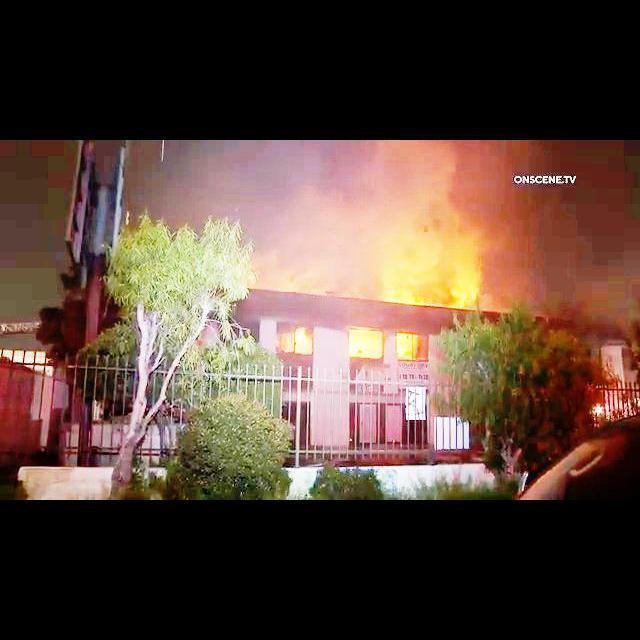Fire: (352, 331, 376, 353)
Smoke: (255, 140, 478, 266)
